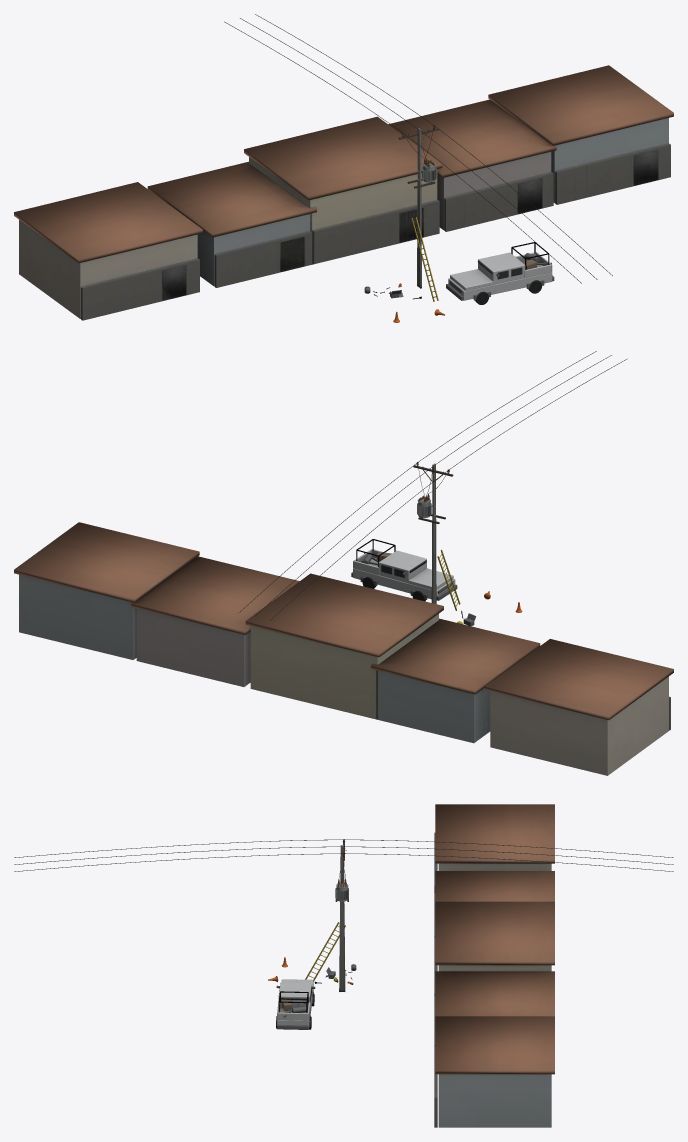
The model's file is cenario.glb.
3 renders of one model, top to bottom at view 1: azimuth 30°, elevation 25°; view 2: azimuth 150°, elevation 25°; view 3: azimuth 270°, elevation 25°, orthographic. The views are drawn at different scales.
Visible parts, largest first — view 1: quadra, veiculo, condutor, poste; view 2: quadra, veiculo, condutor, poste; view 3: quadra, condutor, veiculo, poste.
Boxes of the visible parts, <box> form: quadra: <box>14,65,673,320</box>; veiculo: <box>446,242,554,304</box>; condutor: <box>224,14,612,283</box>; poste: <box>417,128,421,288</box>; quadra: <box>14,522,673,775</box>; veiculo: <box>351,539,457,601</box>; condutor: <box>239,351,627,620</box>; poste: <box>431,463,436,603</box>; quadra: <box>434,804,554,1127</box>; condutor: <box>14,839,673,878</box>; veiculo: <box>276,979,315,1029</box>; poste: <box>339,845,345,991</box>.
Size of what is drawn, in the model's own units: 36.5 by 9.35 by 38.
Materials: 20 (18 with a texture image).
